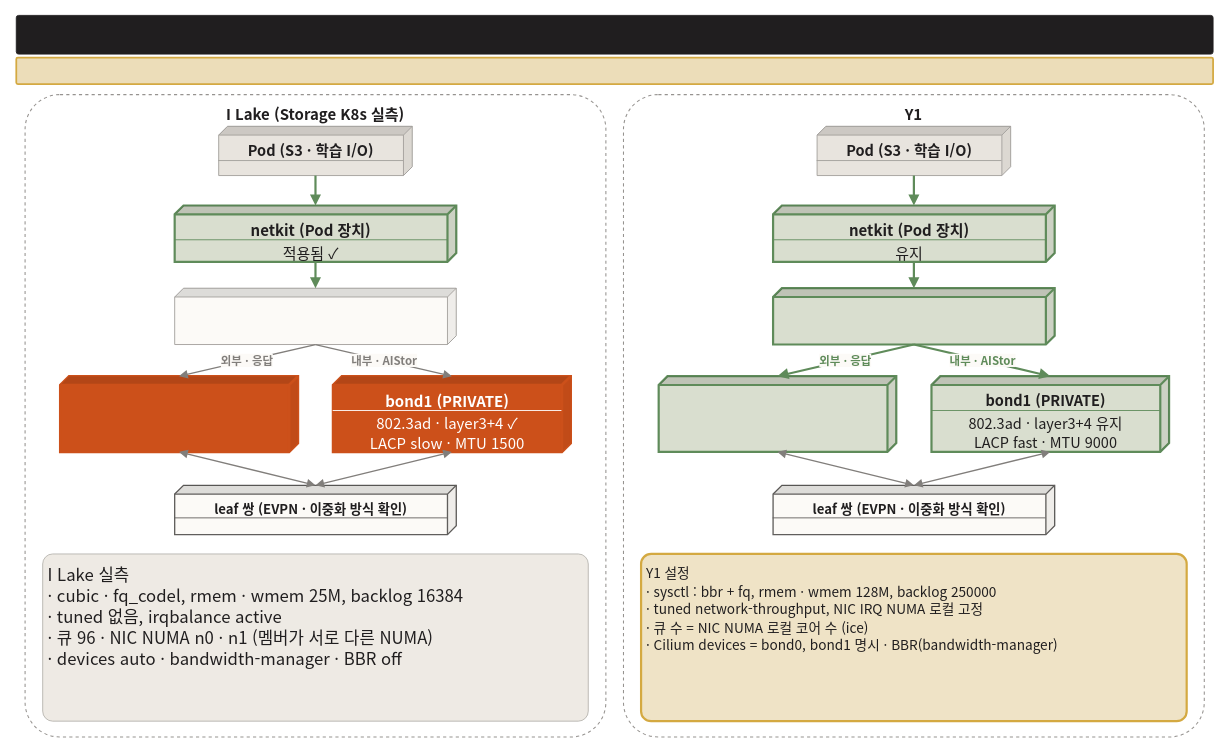
The diagram is 1228 pixels wide and 753 high, and some of its shapes have lost their labels. Each missing label, with the centre of its shape:
"bond0 (PUBLIC) 802.3ad · layer3+4 ✓ LACP slow · MTU 1500" belongs at [179,413].
"bond0 (PUBLIC) 802.3ad · layer3+4 유지 LACP fast · MTU 9000" belongs at [777,414].
"host routing BPF 확인 · 유지" belongs at [913,316].
"host routing 값 확인 필요 (?)" belongs at [315,316].
"netkit · bond 해시는 이미 좋음 → 유지. LACP · MTU · TCP · tuned · IRQ 를 100G 기준으로 개선" belongs at [614,70].
"그림 6-1. 노드 : I Lake → Y1 (bond 802.3ad 유지)" belongs at [614,34].
